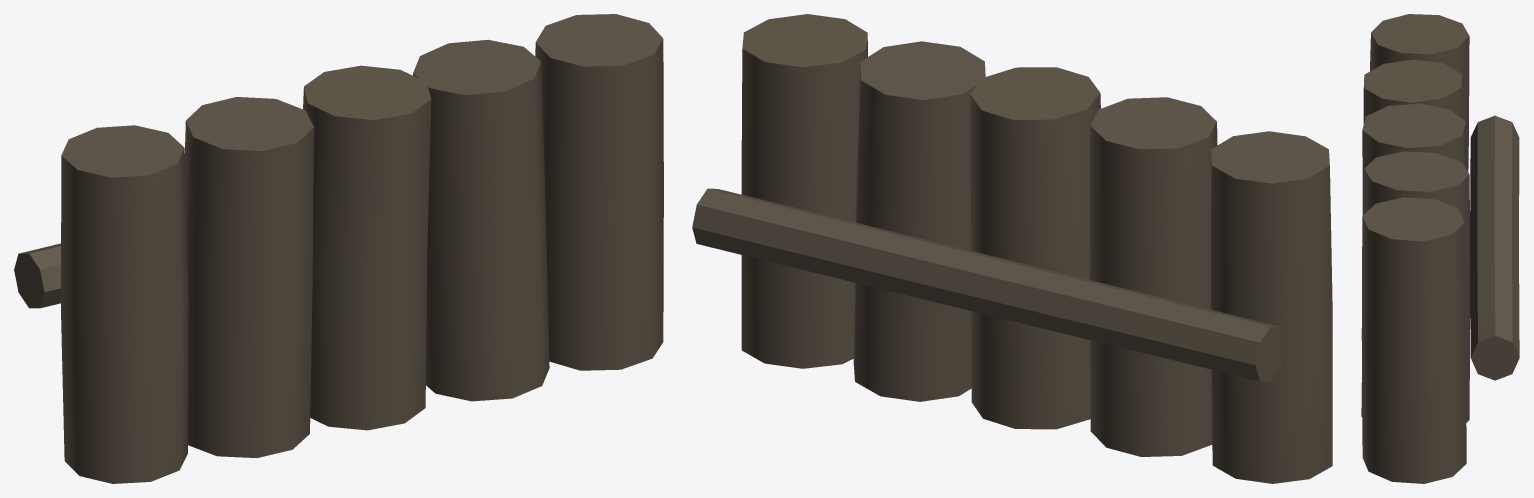
Rendered from bruestung_holz_05_1m.glb.
The picture shows the model from 3 angles, left to right: view 1: azimuth 30°, elevation 25°; view 2: azimuth 150°, elevation 25°; view 3: azimuth 270°, elevation 25°; orthographic projection. The views are drawn at different scales.
Parts seen in each view (by area): view 1: bruestung_holz_05_1m; view 2: bruestung_holz_05_1m; view 3: bruestung_holz_05_1m.
Part boxes in pixels (x1,y1,x2,y2): bruestung_holz_05_1m: (14, 14, 663, 483); bruestung_holz_05_1m: (692, 14, 1332, 483); bruestung_holz_05_1m: (1361, 14, 1519, 483).
Size of the model in its own units: 0.9892 by 0.5044 by 0.291.
